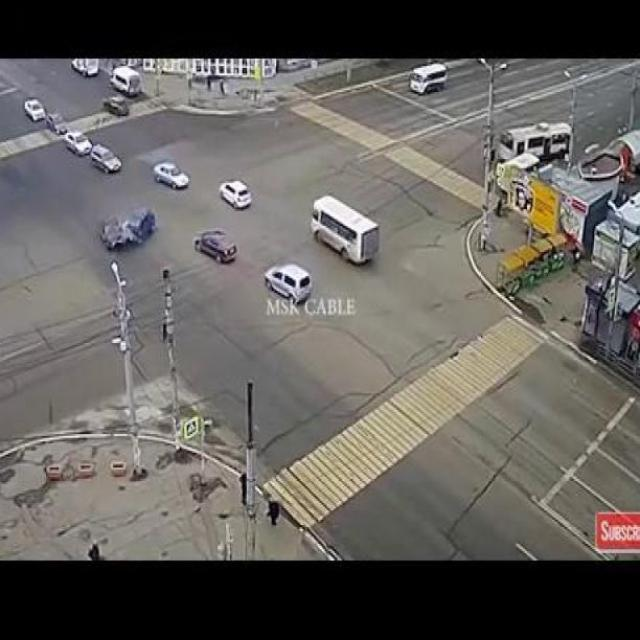accident: (91, 189, 158, 258)
